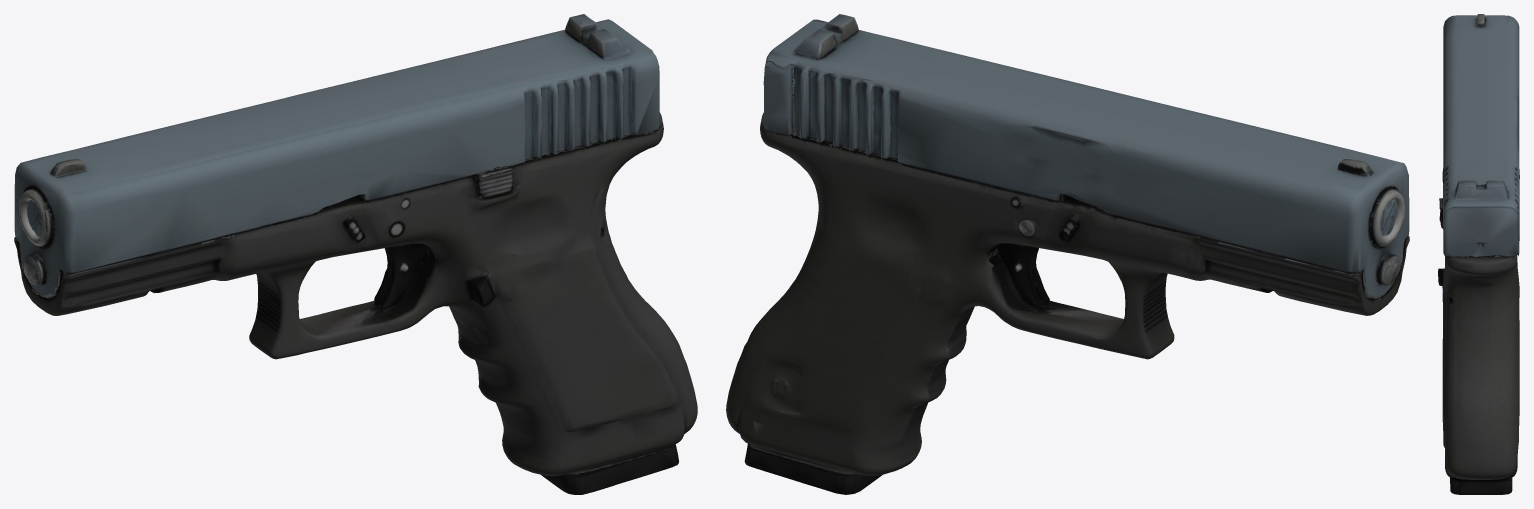
File: glock19-BdSOqMnU.glb
The picture shows the model from 3 angles, left to right: view 1: azimuth 30°, elevation 25°; view 2: azimuth 150°, elevation 25°; view 3: azimuth 270°, elevation 25°; orthographic projection. The views are drawn at different scales.
Parts seen in each view (by area): view 1: low; view 2: low; view 3: low.
Part boxes in pixels (x1,y1,x2,y2): low: [14, 14, 697, 494]; low: [726, 14, 1409, 494]; low: [1438, 14, 1519, 494].
Size of the model in its own units: 0.186 by 0.1207 by 0.0303.
Materials: 1 (1 with a texture image).
